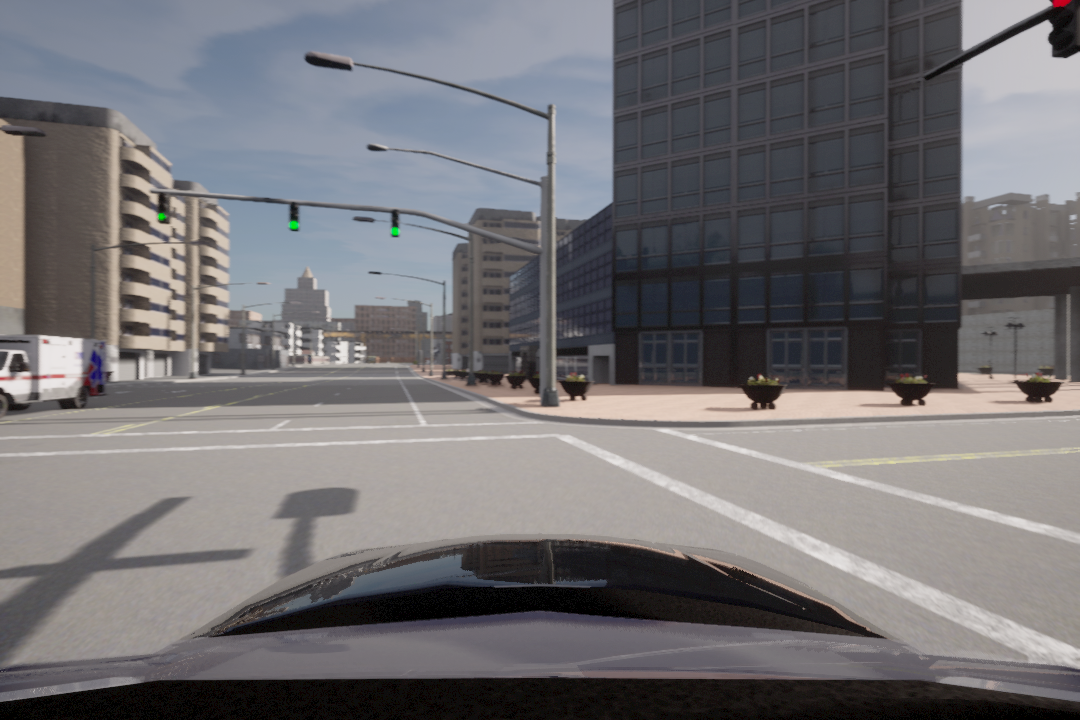TrafficLight: (151, 190, 176, 226), (284, 198, 303, 231), (387, 209, 401, 241)
